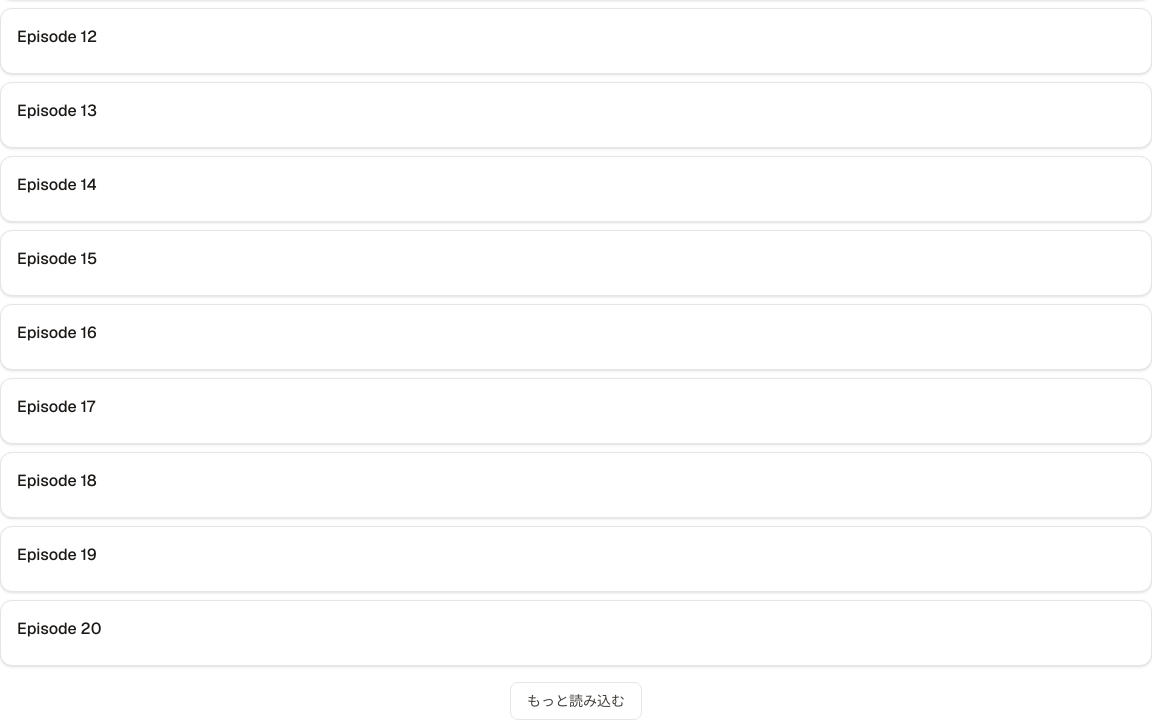
Test: EpisodeListClient › loadMore 失敗時にエラーメッセージを表示し、リトライで復帰する
(page scrolled)
Click the button "もっと読み込む" at {"x": 576, "y": 701}, box [510,682,642,719]
(page scrolled)
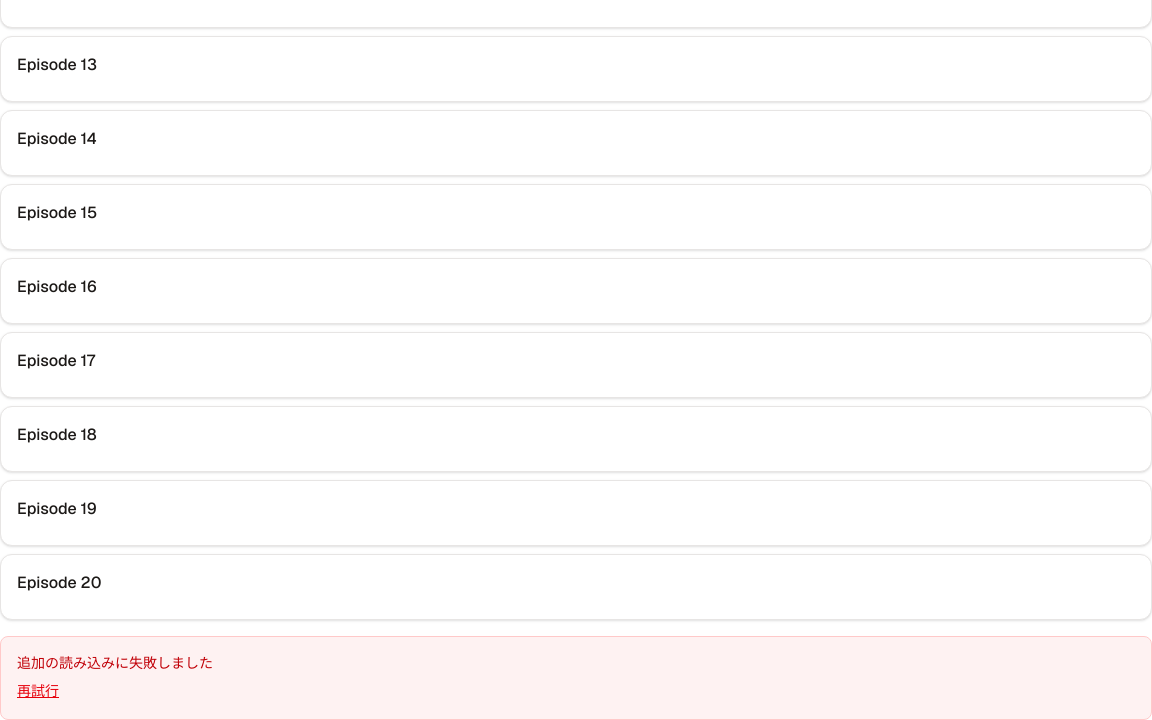
Now the text "追加の読み込みに失敗しました" is shown, box [17,654,213,672]
Now the button "もっと読み込む" is gone
リトライで成功させると、エラー表示が消え、全件読み終わってボタンも消える
Click the button "再試行" at {"x": 38, "y": 691}, box [17,681,59,701]
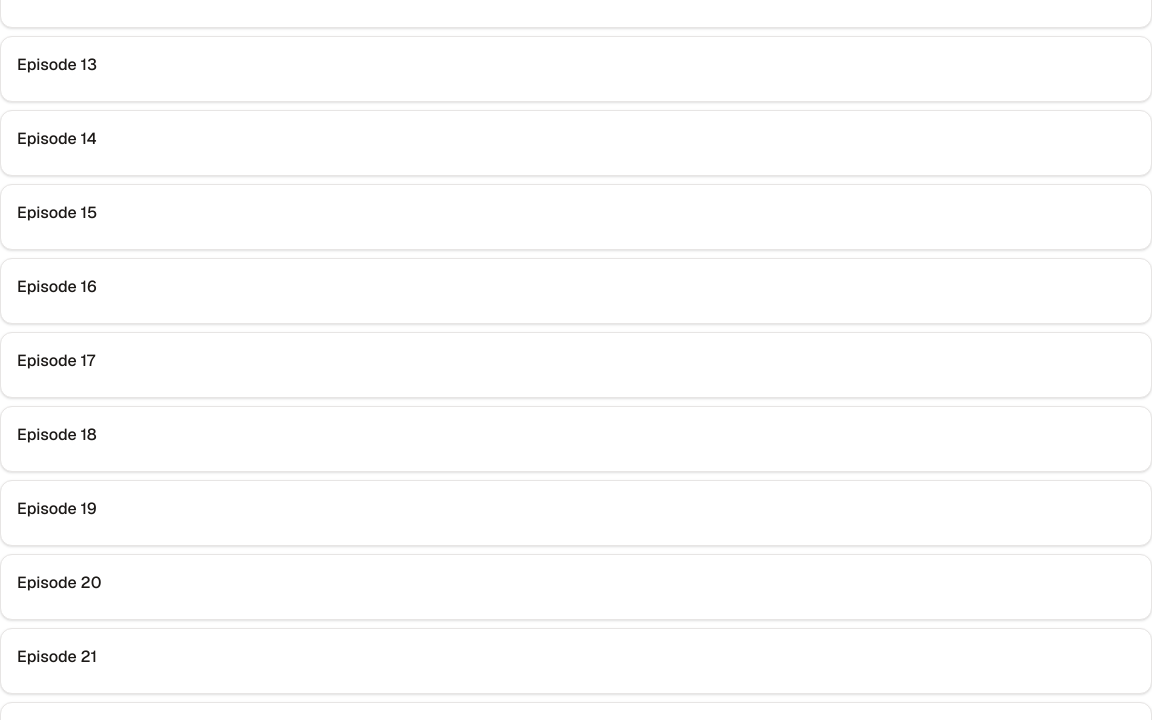
Expected: the button "もっと読み込む" is not shown
Now the text "追加の読み込みに失敗しました" is gone
